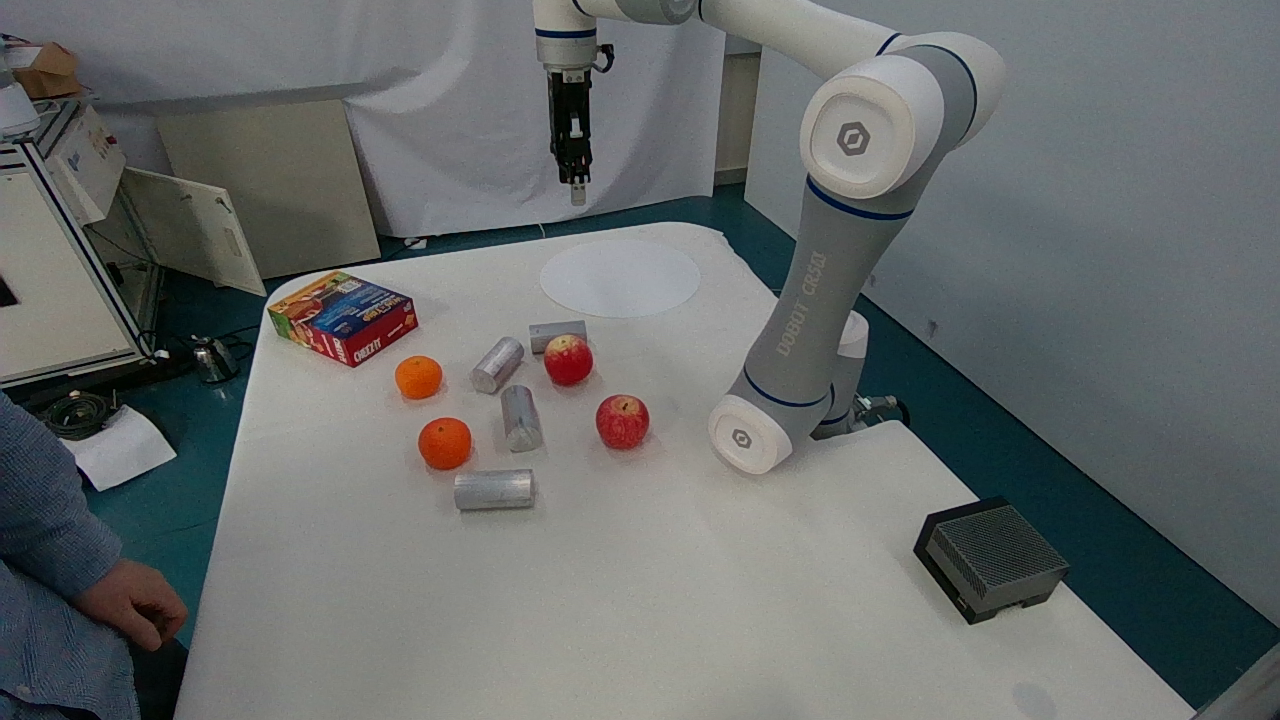apple: (590, 386, 653, 469), (532, 332, 605, 396)
metal rod: (443, 459, 553, 517), (480, 378, 556, 454), (512, 298, 612, 351), (462, 328, 532, 394)
orange: (410, 403, 478, 478), (389, 346, 451, 410)
